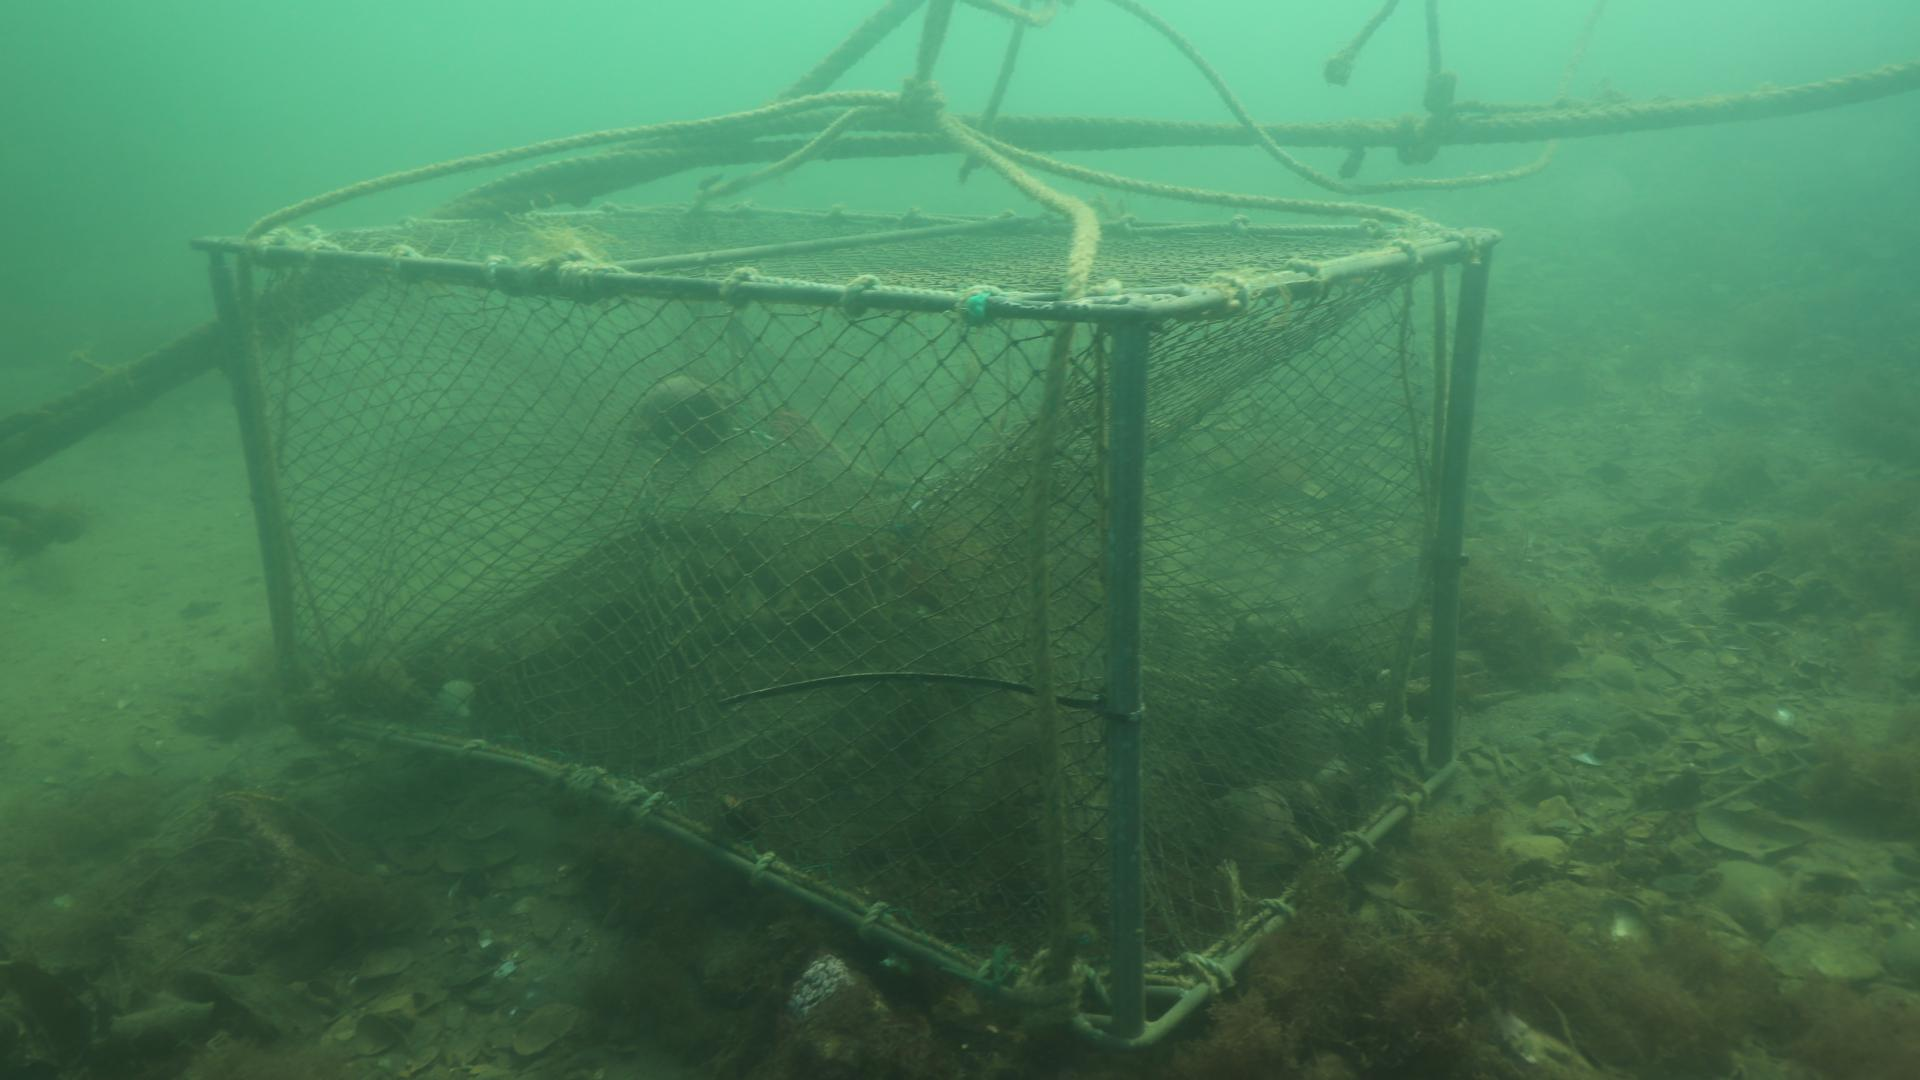bundle of ropes: (247, 0, 1920, 295)
rectangular fish trap: (186, 204, 1501, 1047)
